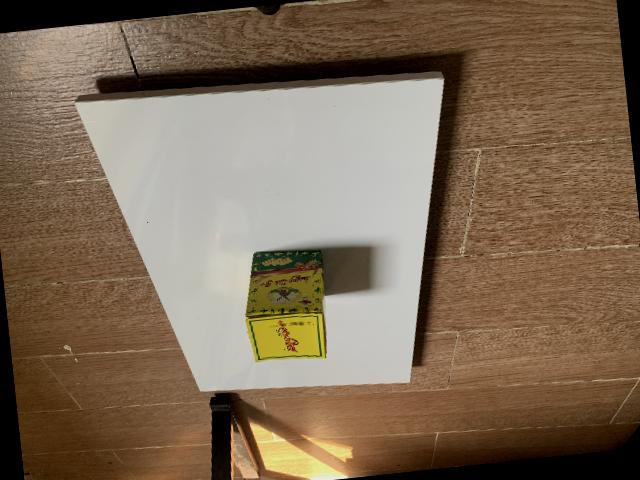luong_kho: (244, 249, 326, 361)
